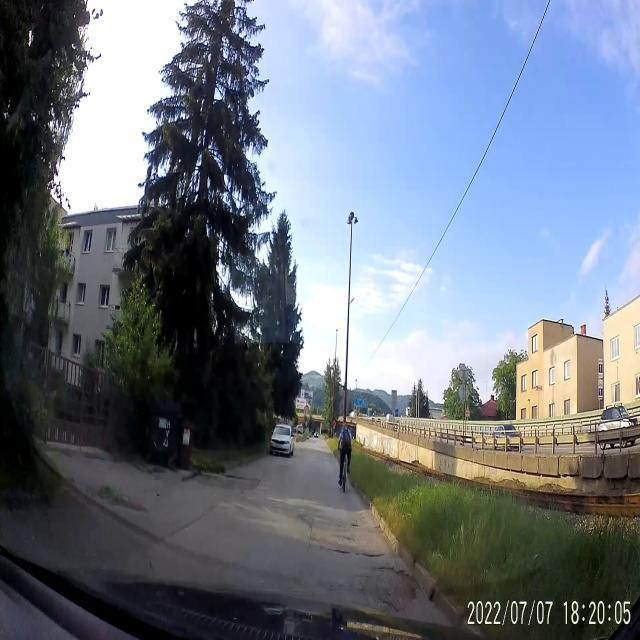Pothole: (358, 568, 418, 614), (356, 550, 386, 562), (224, 472, 248, 487), (330, 546, 352, 558), (351, 519, 362, 531)
